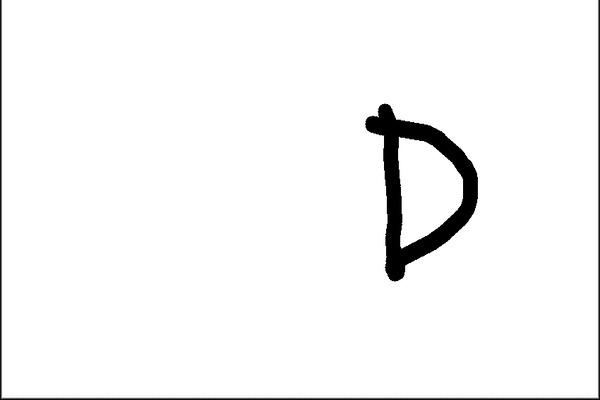D: (358, 102, 483, 284)
